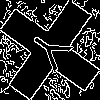Y: (25, 25, 82, 79)
